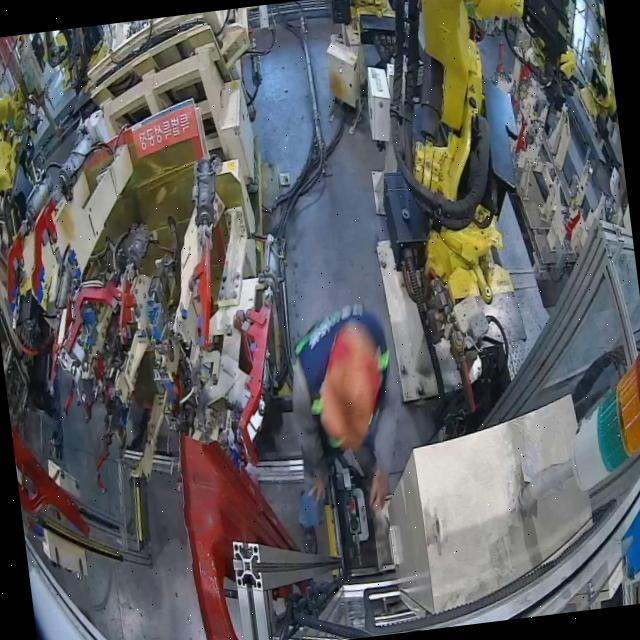Person: (273, 298, 413, 553)
